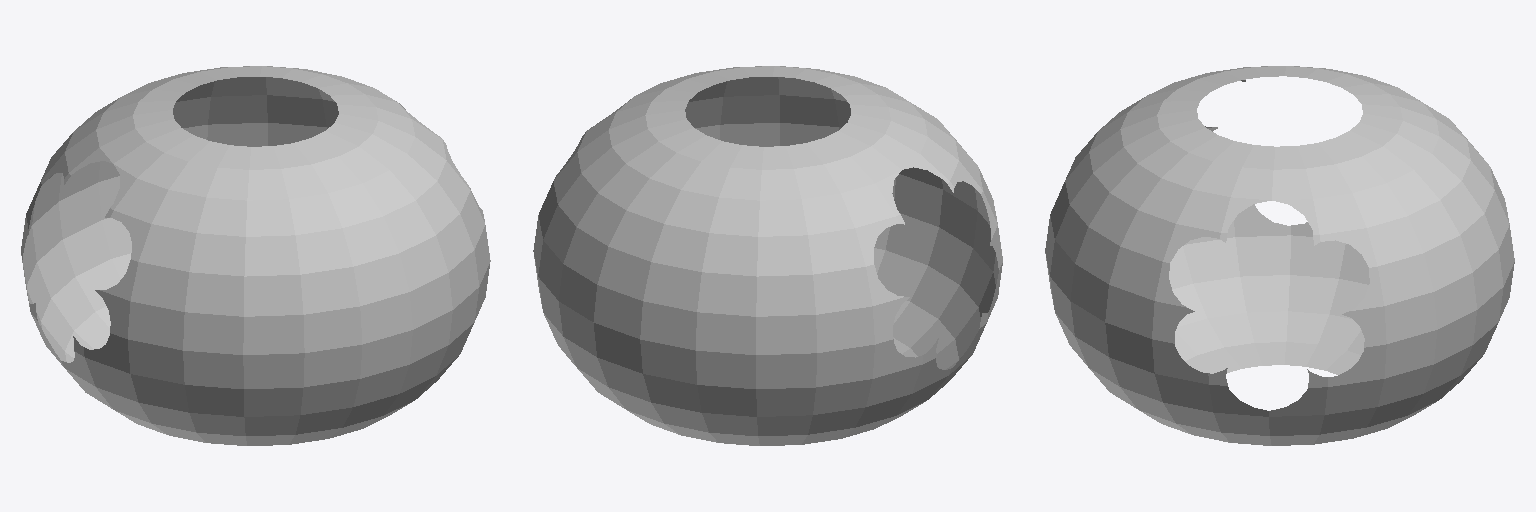
The model's file is original-11.obj.
The picture shows the model from 3 angles: view 1: azimuth 30°, elevation 25°; view 2: azimuth 150°, elevation 25°; view 3: azimuth 270°, elevation 25°; orthographic projection.
Parts seen in each view (by area): view 1: mesh5/mesh5-geometry/material_2#mesh5-geometry; view 2: mesh5/mesh5-geometry/material_2#mesh5-geometry; view 3: mesh5/mesh5-geometry/material_2#mesh5-geometry.
Part boxes in pixels (x1,y1,x2,y2): mesh5/mesh5-geometry/material_2#mesh5-geometry: (21, 66, 490, 445); mesh5/mesh5-geometry/material_2#mesh5-geometry: (533, 66, 1002, 445); mesh5/mesh5-geometry/material_2#mesh5-geometry: (1045, 66, 1514, 445).
Size of the model in its own units: 1.27 by 0.8844 by 1.3.